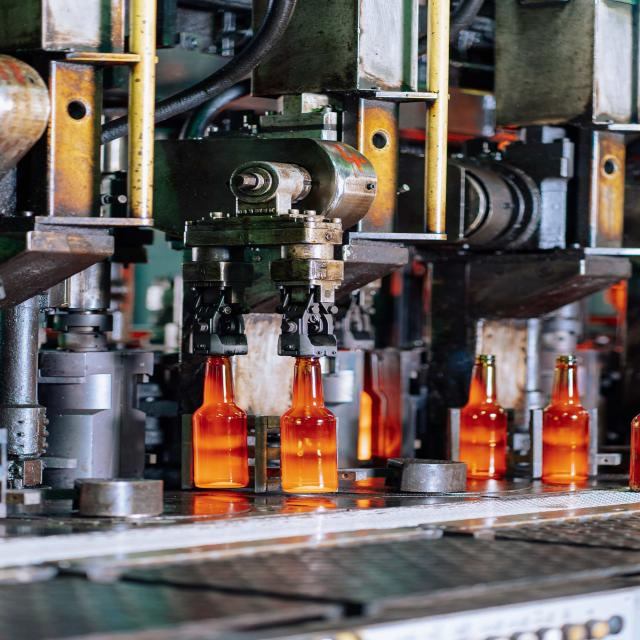Bottle: (281, 358, 338, 493), (193, 357, 249, 488), (542, 356, 589, 484), (459, 355, 507, 479), (358, 352, 389, 464), (630, 415, 639, 491)
